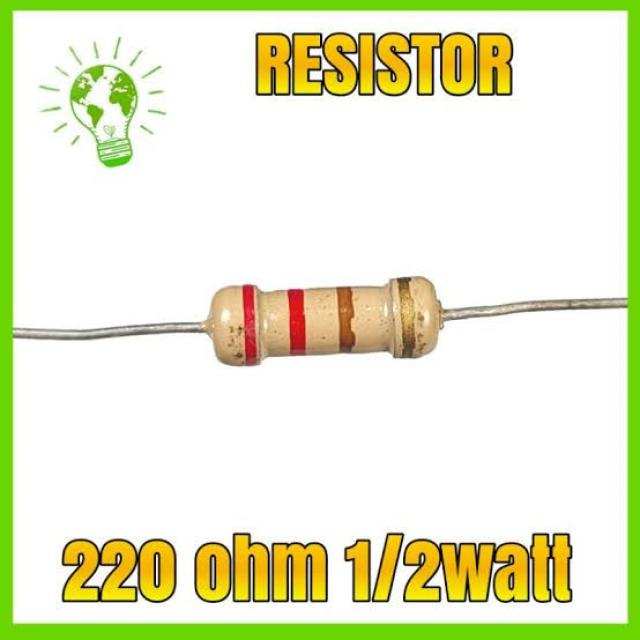Resistor: (202, 277, 442, 365)
brown: (337, 287, 355, 352)
gold: (398, 278, 414, 358)
red: (288, 289, 306, 354), (243, 286, 257, 365)
